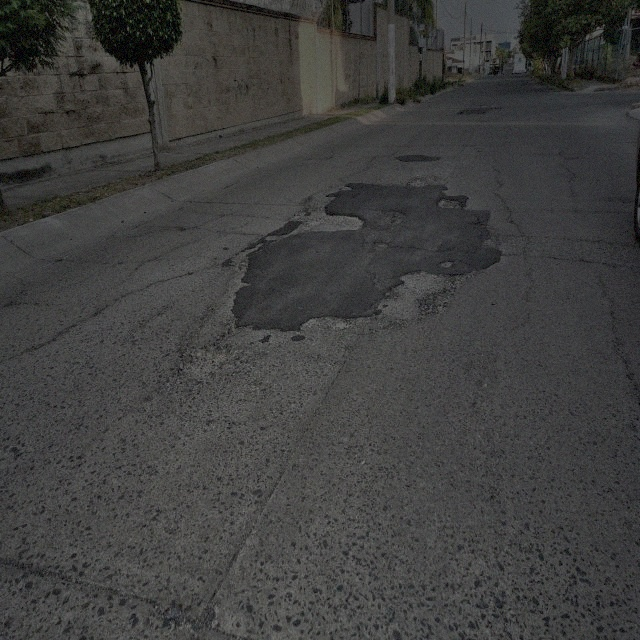pothole: (414, 271, 464, 322), (173, 338, 230, 380), (298, 208, 364, 234), (291, 204, 330, 233), (368, 209, 405, 226), (438, 195, 462, 212), (231, 258, 250, 276), (172, 224, 186, 234)
